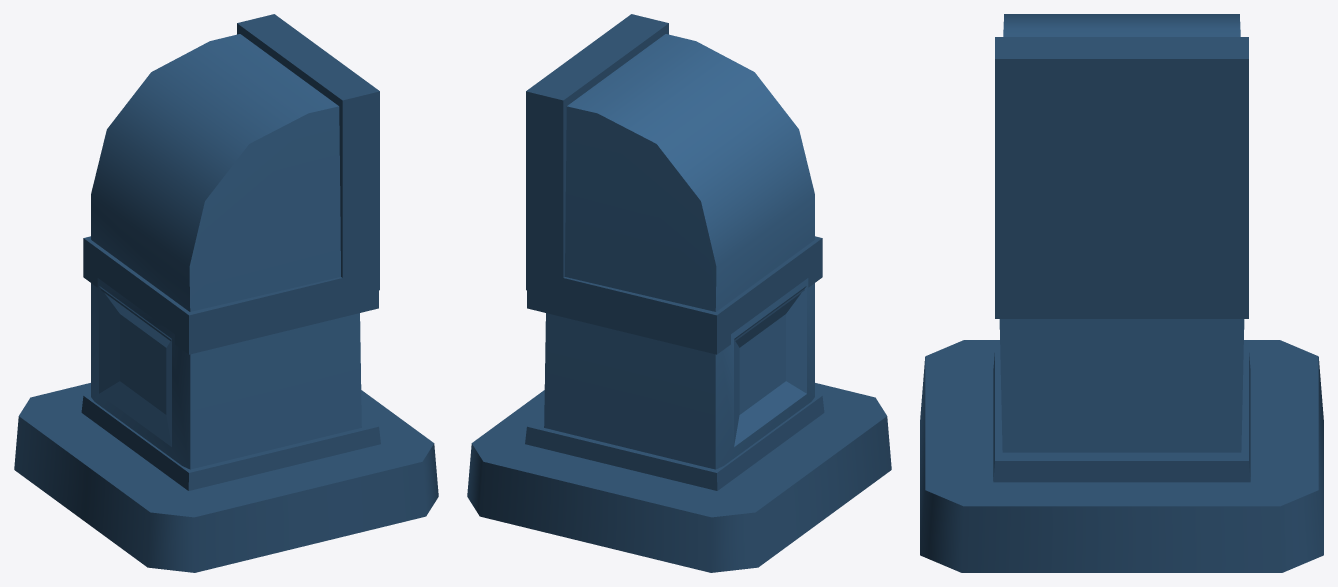
The model's file is Vent_2_C_3.glb.
The picture shows the model from 3 angles, left to right: view 1: azimuth 30°, elevation 25°; view 2: azimuth 150°, elevation 25°; view 3: azimuth 270°, elevation 25°; orthographic projection. The views are drawn at different scales.
Visible parts, largest first — view 1: Vent_2_C_3; view 2: Vent_2_C_3; view 3: Vent_2_C_3.
Part boxes in pixels (bbox=[...]): Vent_2_C_3: bbox=[14, 14, 438, 572]; Vent_2_C_3: bbox=[467, 14, 891, 572]; Vent_2_C_3: bbox=[920, 14, 1323, 572].
Bounding box in the file's own units: 0.5666 × 0.7552 × 0.5666.
1 material, 1 textured.
